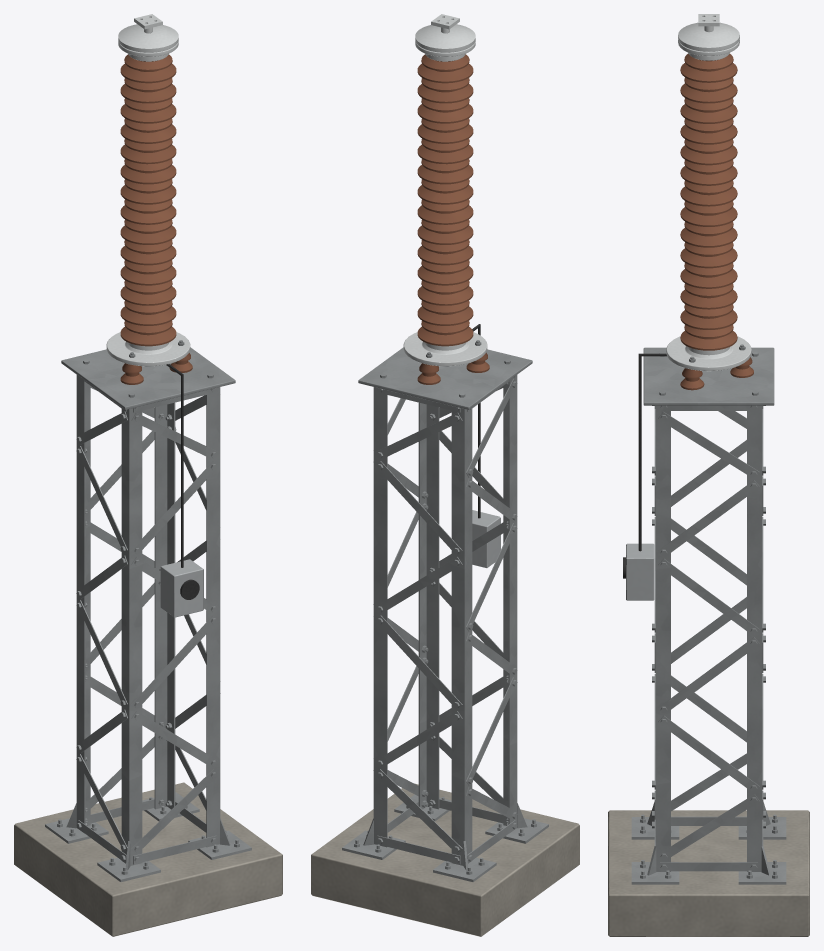
Rendered from SurgeArrester_138kV.fbx.
3 renders of one model, left to right at view 1: azimuth 30°, elevation 25°; view 2: azimuth 150°, elevation 25°; view 3: azimuth 270°, elevation 25°, orthographic.
Visible parts, largest first — view 1: Body_GalvanizedSteel_LOD0, Body_Concrete_LOD0, Body_PorcelainBrown_LOD0, Body_Aluminium_LOD0, Body_CoatedSteel_LOD0, Body_RubberBlack_LOD0; view 2: Body_GalvanizedSteel_LOD0, Body_Concrete_LOD0, Body_PorcelainBrown_LOD0, Body_Aluminium_LOD0, Body_CoatedSteel_LOD0; view 3: Body_GalvanizedSteel_LOD0, Body_Concrete_LOD0, Body_PorcelainBrown_LOD0, Body_Aluminium_LOD0, Body_CoatedSteel_LOD0, Body_RubberBlack_LOD0.
Part boxes in pixels (x1,y1,x2,y2): Body_GalvanizedSteel_LOD0: [45, 340, 251, 881]; Body_Concrete_LOD0: [14, 782, 282, 936]; Body_PorcelainBrown_LOD0: [120, 54, 192, 384]; Body_Aluminium_LOD0: [106, 14, 190, 366]; Body_CoatedSteel_LOD0: [160, 559, 203, 617]; Body_RubberBlack_LOD0: [166, 364, 199, 599]; Body_GalvanizedSteel_LOD0: [342, 340, 548, 881]; Body_Concrete_LOD0: [311, 783, 579, 936]; Body_PorcelainBrown_LOD0: [417, 54, 489, 384]; Body_Aluminium_LOD0: [403, 14, 487, 366]; Body_CoatedSteel_LOD0: [472, 510, 500, 568]; Body_GalvanizedSteel_LOD0: [631, 344, 786, 884]; Body_Concrete_LOD0: [608, 810, 809, 936]; Body_PorcelainBrown_LOD0: [680, 54, 753, 390]; Body_Aluminium_LOD0: [666, 14, 751, 371]; Body_CoatedSteel_LOD0: [626, 543, 654, 600]; Body_RubberBlack_LOD0: [623, 353, 666, 578].
Size of what is drawn, in the model's own units: 0.85 by 4.07 by 0.85.
